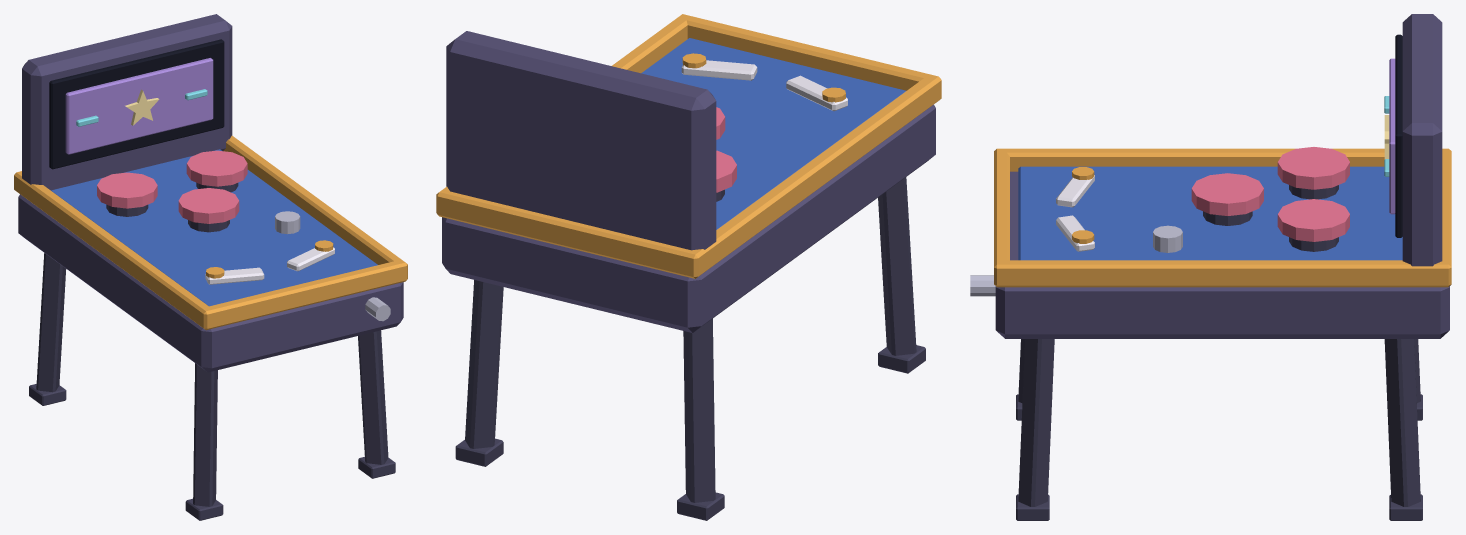
The model's file is 02_Orbit_Pinball_Table.glb.
3 renders of one model, left to right at view 1: azimuth 30°, elevation 25°; view 2: azimuth 150°, elevation 25°; view 3: azimuth 270°, elevation 25°, orthographic. The views are drawn at different scales.
Visible parts, largest first — view 1: 02_Orbit_Pinball_Table__Body; view 2: 02_Orbit_Pinball_Table__Body; view 3: 02_Orbit_Pinball_Table__Body.
Boxes of the visible parts, x1,y1,x2,y2 form: 02_Orbit_Pinball_Table__Body: [14, 14, 407, 520]; 02_Orbit_Pinball_Table__Body: [436, 14, 941, 520]; 02_Orbit_Pinball_Table__Body: [970, 14, 1451, 520].
Bounding box in the file's own units: 2.25 × 3.5 × 3.86.
1 material, 1 textured.
